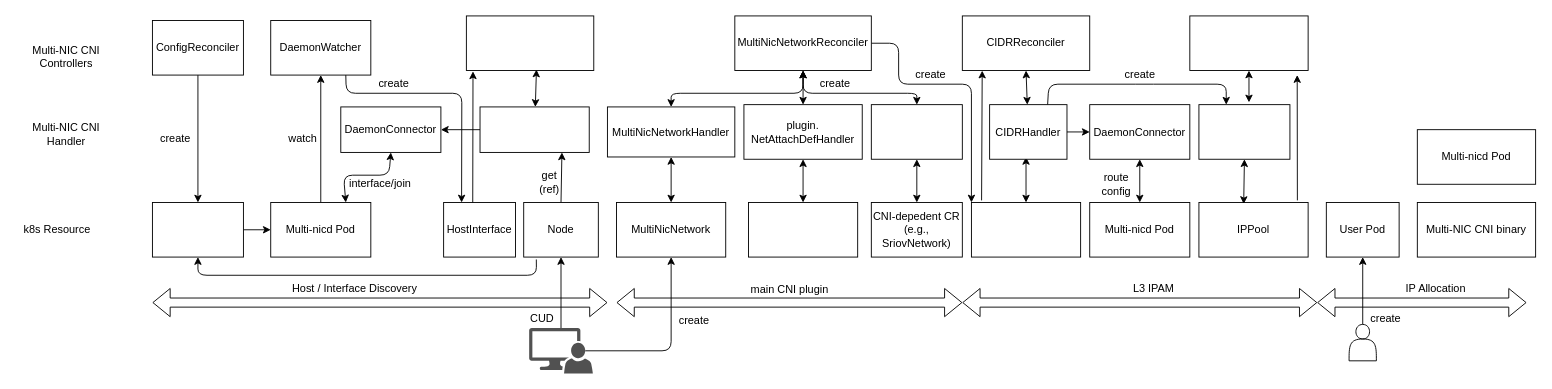
Image size: 1552x389. Some labels were removed from this diagram. The box of each missing label's shape, as (x1, y1, x2, y2) in pixels:
admin: (529, 328, 592, 373)
CIDR: (971, 202, 1081, 257)
HostInterfaceHandler: (479, 106, 589, 152)
HostInterfaceReconciler: (465, 15, 594, 71)
IPPoolHandler: (1198, 104, 1290, 159)
IPPoolReconciler: (1189, 15, 1308, 71)
Multi-nicd DS: (152, 202, 243, 257)
NetAttachDefinition: (748, 202, 858, 257)
plugin. PluginInterface: (870, 104, 962, 159)
